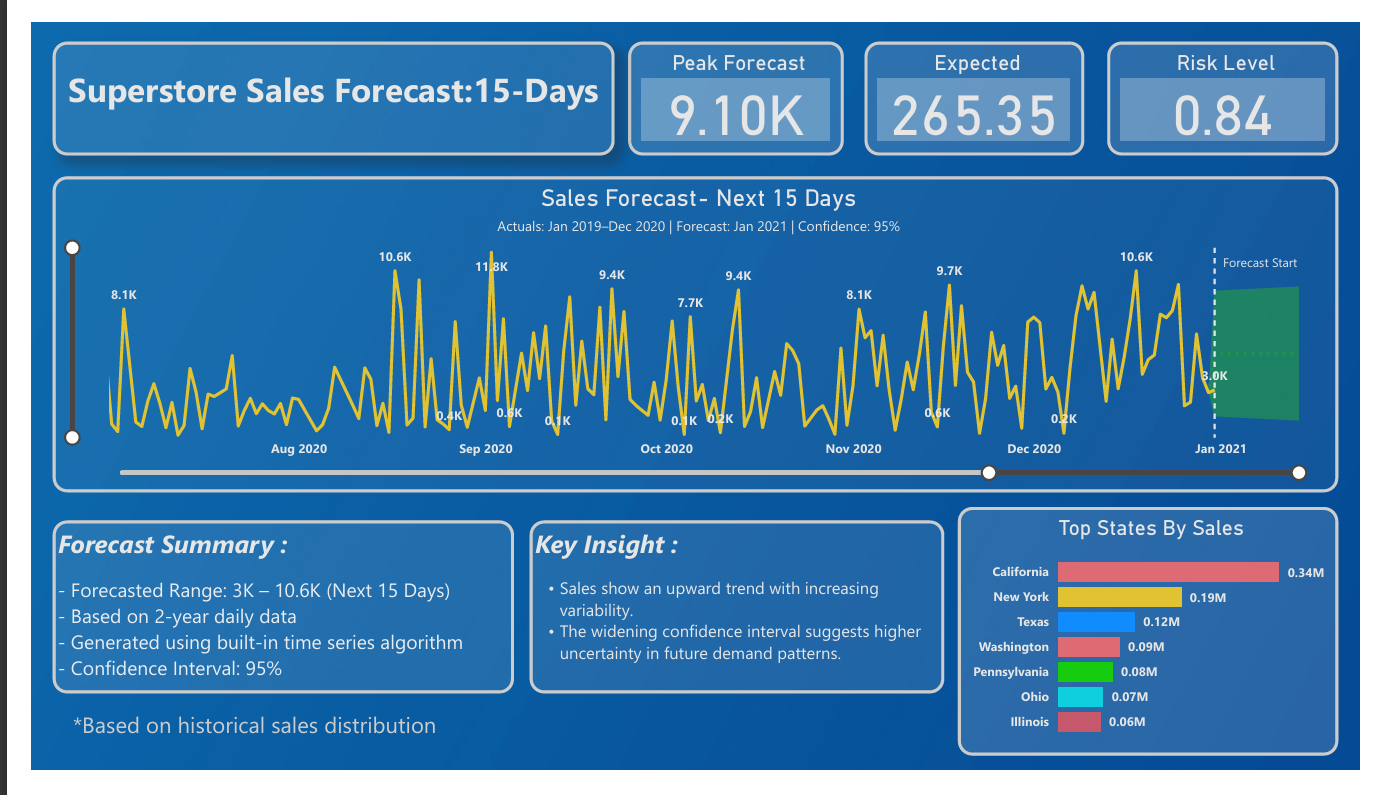

Layout of this report page (visuals, bound fields, positions):
{"tool":"powerbi","page":{"name":"Forecast","canvas":[1280,720],"ordinal":3},"visuals":[{"type":"textbox","box":[20,480,445,166.7],"z":0},{"type":"lineChart","title":"Sales Forecast- Next 15 Days","fields":{"Y":["Sum(SuperStore_Sales_Dataset.Sales)"],"Category":["SuperStore_Sales_Dataset.Order Date"]},"box":[20,148.3,1240,305],"z":1000},{"type":"barChart","title":"Top States By Sales","fields":{"Category":["SuperStore_Sales_Dataset.State"],"Y":["Sum(SuperStore_Sales_Dataset.Sales)"]},"box":[893.3,466.7,366.7,240],"z":2000},{"type":"textbox","box":[480,480,400,166.7],"z":3000},{"type":"cardVisual","title":"Peak Forecast","fields":{"Data":["SalesForecast.Peak Sales"]},"box":[575,18.3,208.3,110],"z":4000},{"type":"cardVisual","title":"Expected","fields":{"Data":["SalesForecast.Average Sales"]},"box":[803.3,18.3,211.7,110],"z":5000},{"type":"cardVisual","title":"Risk Level","fields":{"Data":["SalesForecast.Lowest Sales"]},"box":[1036.7,18.3,223.3,110],"z":6000},{"type":"textbox","box":[20,18.3,541.7,110],"z":7000},{"type":"textbox","box":[20,651.7,395,55],"z":8000}]}

Visuals, with their boxes in screenshot pixels (x1, y1, x2, y2), scaled from the page's 1280x720 canvas onto the 1377x795 screenshot:
textbox: Rect(22, 530, 500, 714)
"Sales Forecast- Next 15 Days" lineChart: Rect(22, 164, 1355, 501)
"Top States By Sales" barChart: Rect(961, 515, 1355, 780)
textbox: Rect(516, 530, 947, 714)
"Peak Forecast" cardVisual: Rect(619, 20, 843, 142)
"Expected" cardVisual: Rect(864, 20, 1092, 142)
"Risk Level" cardVisual: Rect(1115, 20, 1355, 142)
textbox: Rect(22, 20, 604, 142)
textbox: Rect(22, 720, 446, 780)
